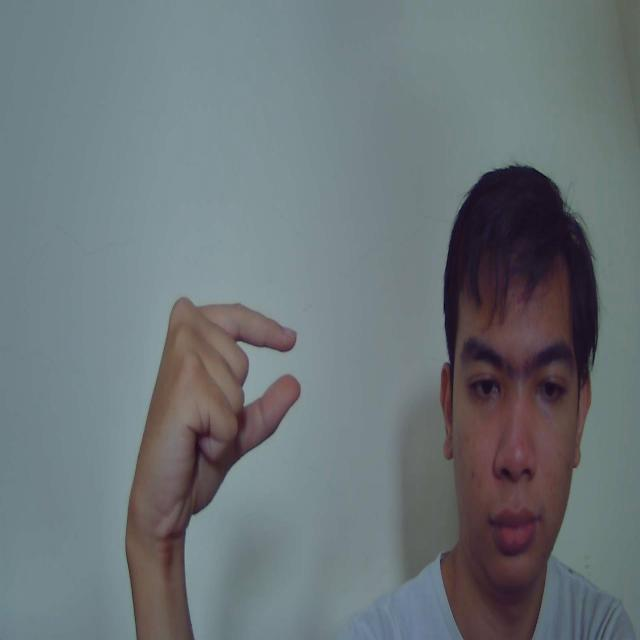G: (125, 297, 302, 532)
